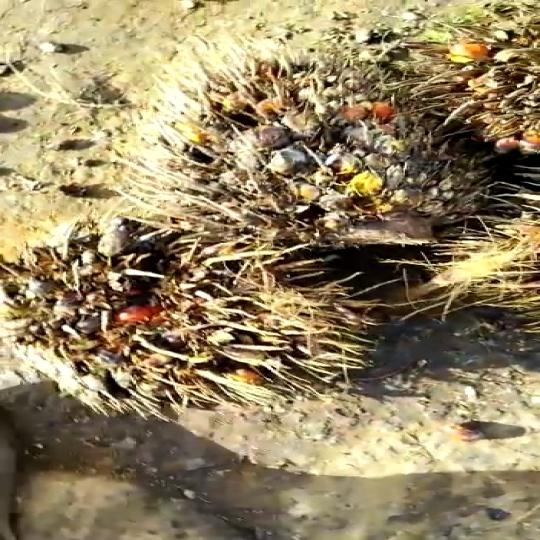terlalu masak: (125, 39, 473, 277), (0, 210, 364, 412)
